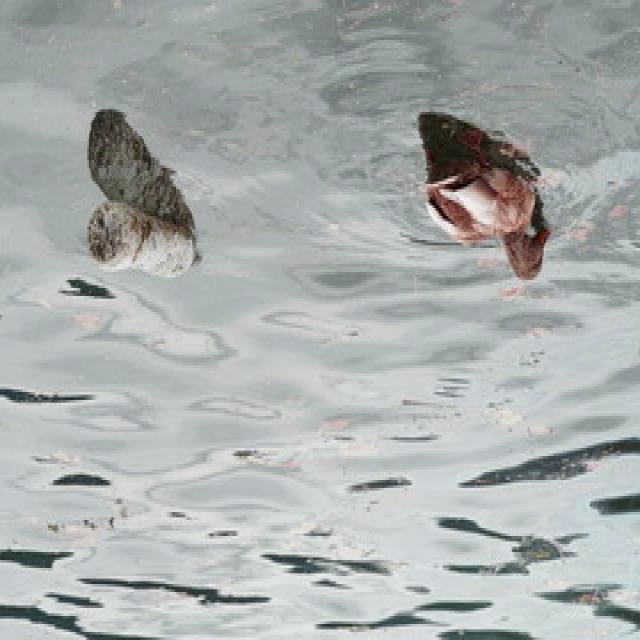Plastic: (86, 196, 204, 284)
